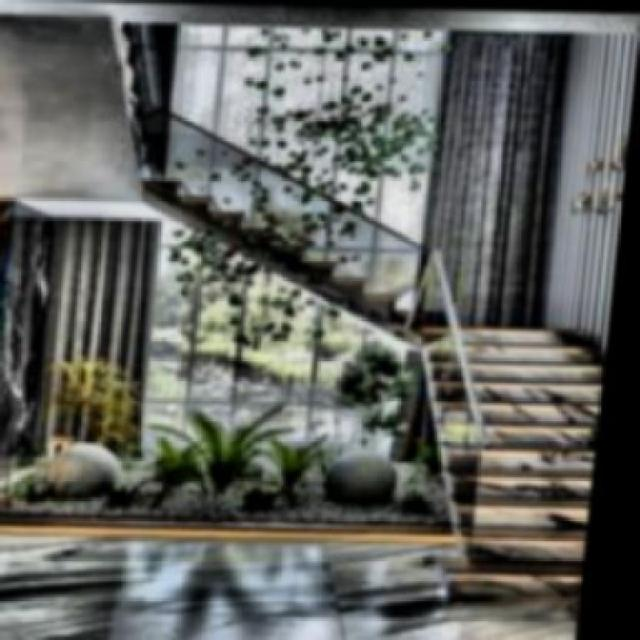stair: (416, 318, 612, 596)
